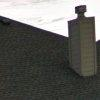Chimney: (58, 1, 100, 74)
